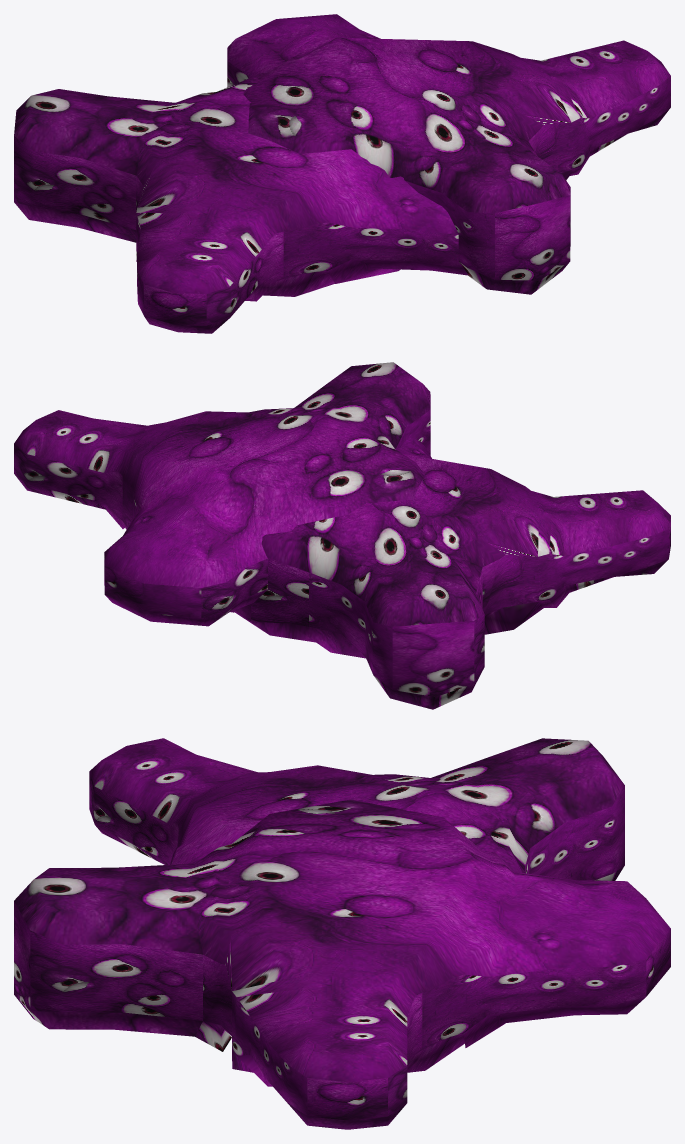
The model's file is guai2.FBX.
The picture shows the model from 3 angles, top to bottom: view 1: azimuth 30°, elevation 25°; view 2: azimuth 150°, elevation 25°; view 3: azimuth 270°, elevation 25°; orthographic projection. The views are drawn at different scales.
Parts seen in each view (by area): view 1: guai2; view 2: guai2; view 3: guai2.
Boxes of the visible parts, x1,y1,x2,y2 form: guai2: (14, 14, 670, 333); guai2: (14, 362, 670, 709); guai2: (14, 738, 670, 1129).
Bounding box in the file's own units: 1209 × 308 × 949.
